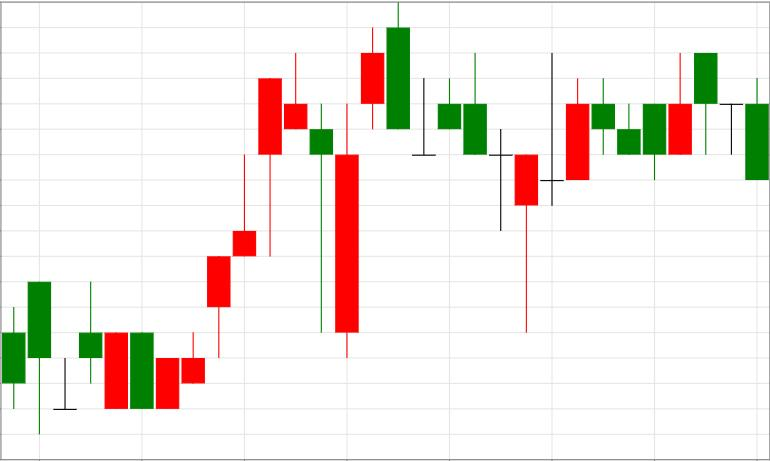hammer_rise: (437, 52, 538, 334)
shooting_star_fall: (156, 53, 308, 409)
